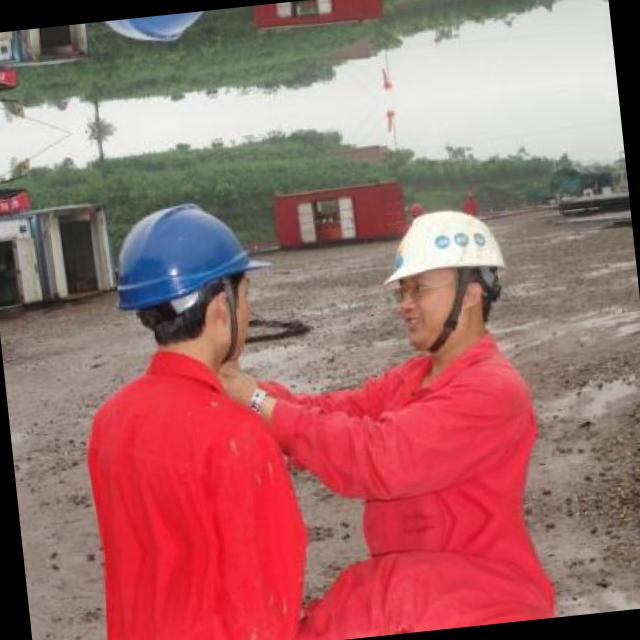helmet: (85, 176, 286, 375), (362, 183, 524, 357), (66, 5, 256, 70)
